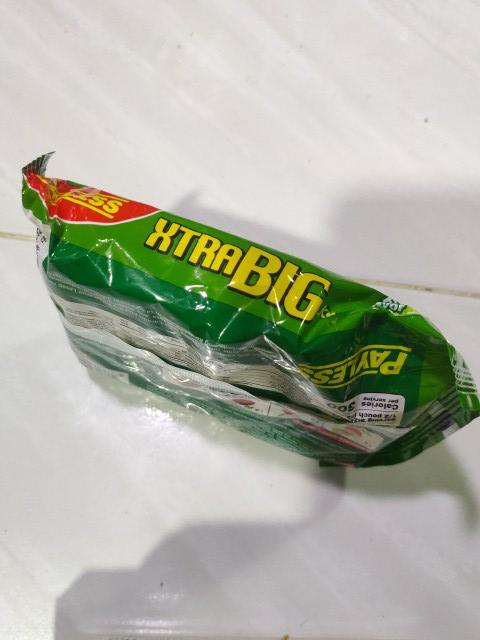Noodles: (11, 150, 480, 474)
